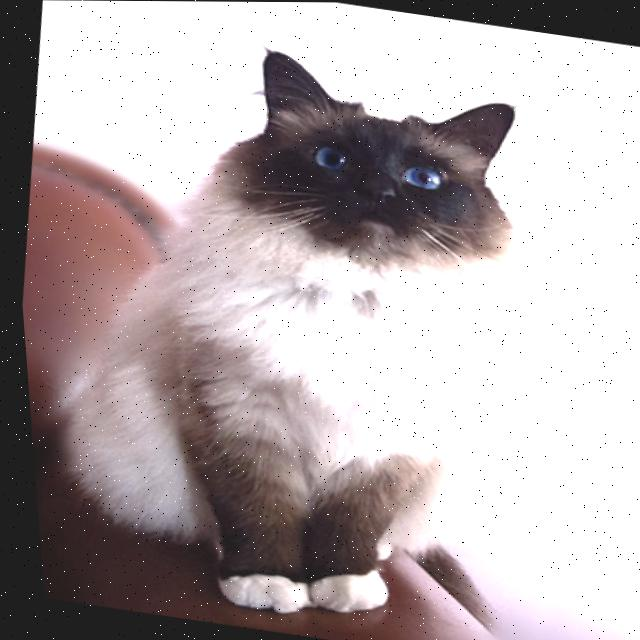Birman: (7, 15, 564, 640)
